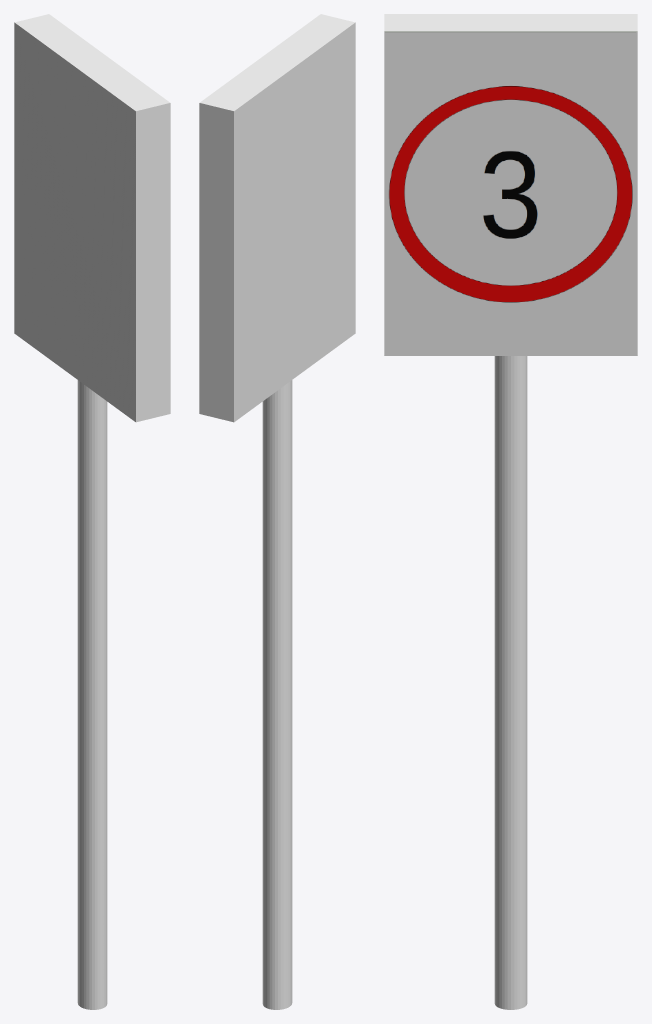
Rendered from sign3.dae.
3 renders of one model, left to right at view 1: azimuth 30°, elevation 25°; view 2: azimuth 150°, elevation 25°; view 3: azimuth 270°, elevation 25°, orthographic. The views are drawn at different scales.
Visible parts, largest first — view 1: Cube; view 2: Cube; view 3: Cube.
Boxes of the visible parts, left/top/right/bottom form: Cube: left=14, top=14, right=170, bottom=1009; Cube: left=199, top=14, right=355, bottom=1009; Cube: left=384, top=14, right=637, bottom=1009.
Bounding box in the file's own units: 0.0692 × 0.42 × 1.8.
